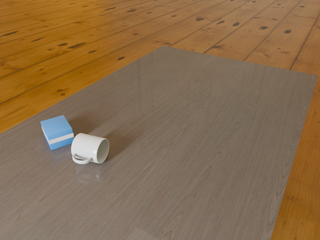box: (41, 115, 74, 150)
cup: (71, 133, 109, 164)
